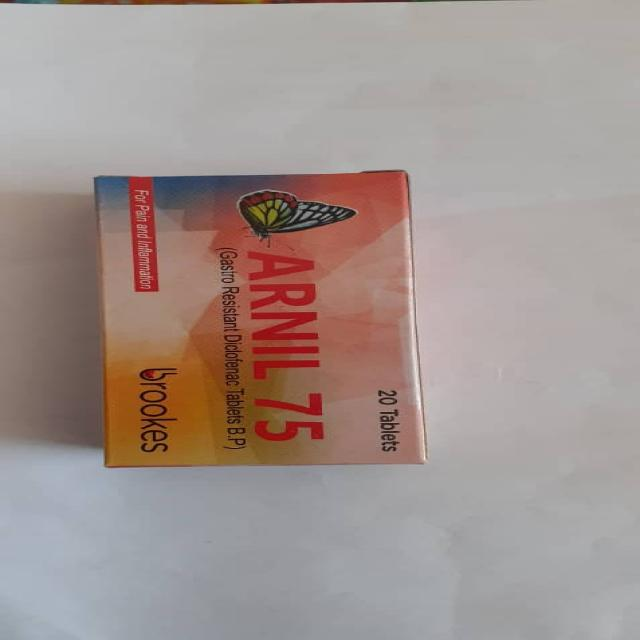drug-name: (246, 246, 331, 444)
